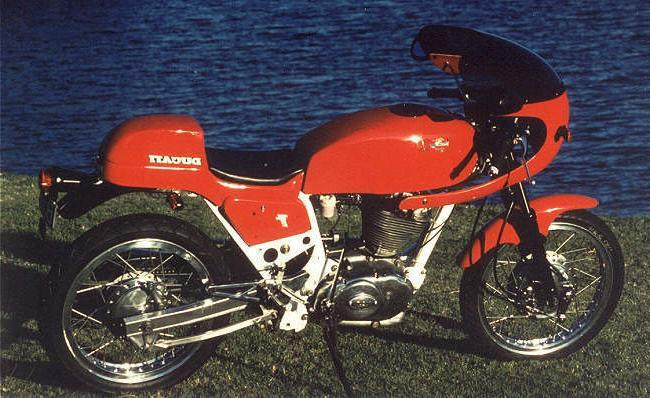motorcycle: (18, 5, 638, 397)
